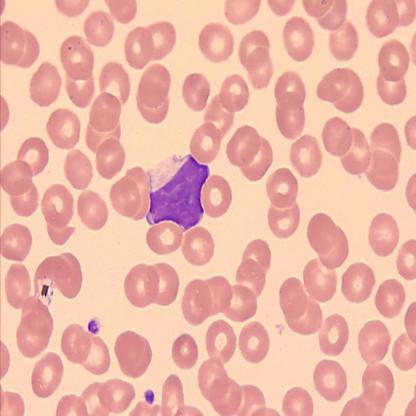Atypical lymphocyte: (148, 155, 211, 232)
